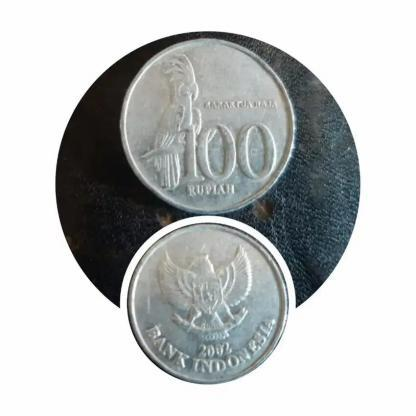coin_100_e1999: (118, 33, 301, 215)
